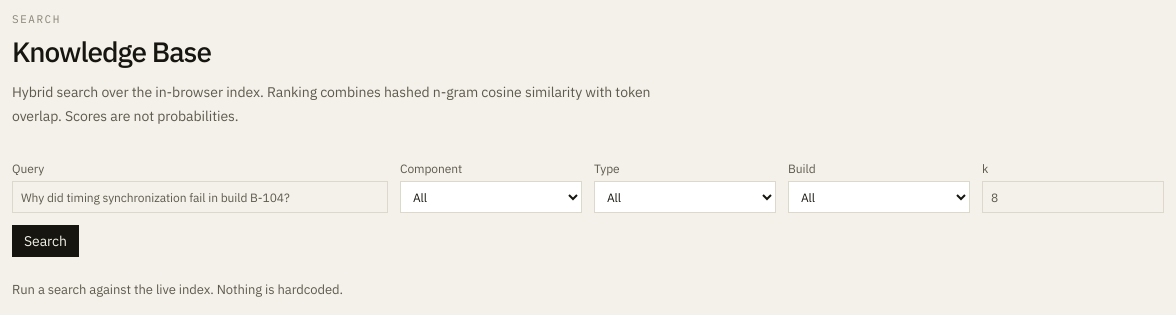
Test case: KnowledgeBasePage › shows a no-results state
Click the button "Search": (46, 241) 12,225 -> 79,257
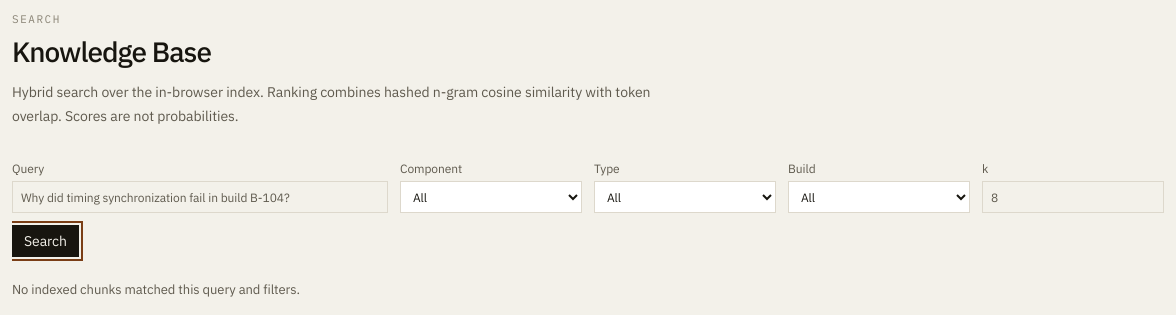
Expected: the text "No indexed chunks matched this query and filters." is shown, 12,281 -> 300,298
